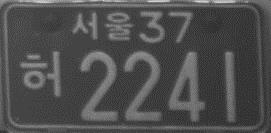1: (221, 49, 241, 126)
2: (79, 49, 120, 124), (122, 49, 163, 124)
3: (136, 8, 166, 43)
4: (166, 49, 207, 123)
7: (166, 10, 194, 45)
서울_O: (71, 10, 135, 43)
허: (18, 49, 62, 99)
